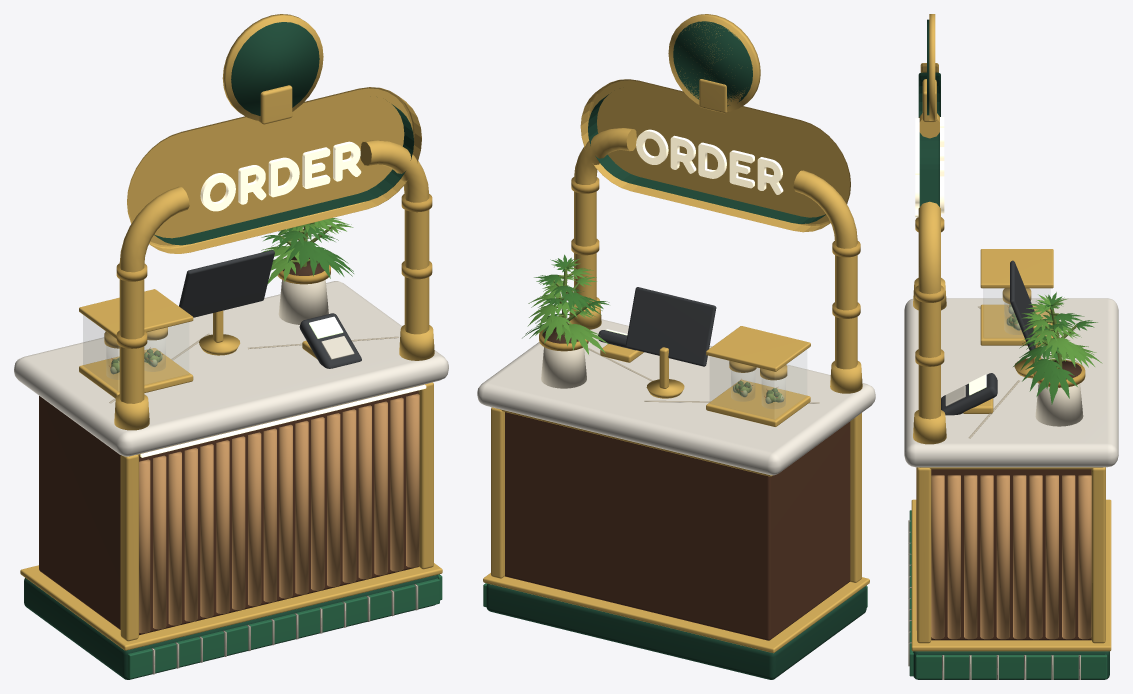
Rendered from order_desk_tier5.glb.
3 renders of one model, left to right at view 1: azimuth 30°, elevation 25°; view 2: azimuth 150°, elevation 25°; view 3: azimuth 270°, elevation 25°, orthographic. The views are drawn at different scales.
Visible parts, largest first — view 1: Top, Body, SignBorder, PlinthTile, PlinthBrass, Roundel, ArchPost-1, ArchPost1, Plinth, SignText0, Tablet, DisplayGlass (+31 smaller); view 2: Body, Top, SignBorder, Plinth, Tablet, PlinthBrass, Roundel, DisplayGlass, ArchPost-1, ArchPost1, SignText1, DisplayCap (+11 smaller); view 3: Top, Body, ArchPost1, PlinthTileSide, PlinthBrass, DisplayCap, Corner1, Corner+XB, FluteEnd3, FluteEnd6, FluteEnd0, FluteEnd9 (+24 smaller).
Boxes of the visible parts, bbox=[...] form: Top: bbox=[14, 281, 448, 456]; Body: bbox=[39, 390, 418, 635]; SignBorder: bbox=[127, 87, 421, 253]; PlinthTile: bbox=[127, 578, 439, 678]; PlinthBrass: bbox=[20, 563, 442, 650]; Roundel: bbox=[231, 22, 319, 115]; ArchPost-1: bbox=[119, 186, 189, 403]; ArchPost1: bbox=[360, 140, 429, 334]; Plinth: bbox=[24, 575, 438, 679]; SignText0: bbox=[200, 141, 361, 211]; Tablet: bbox=[179, 250, 274, 317]; DisplayGlass: bbox=[83, 315, 188, 390]; Body: bbox=[505, 412, 850, 640]; Top: bbox=[477, 319, 875, 475]; SignBorder: bbox=[580, 79, 850, 232]; Plinth: bbox=[486, 583, 866, 679]; Tablet: bbox=[625, 287, 716, 366]; PlinthBrass: bbox=[483, 573, 869, 653]; Roundel: bbox=[673, 21, 752, 106]; DisplayGlass: bbox=[710, 350, 806, 418]; ArchPost-1: bbox=[793, 170, 857, 369]; ArchPost1: bbox=[574, 128, 636, 303]; SignText1: bbox=[636, 129, 783, 194]; DisplayCap: bbox=[706, 326, 810, 371]; Top: bbox=[904, 298, 1118, 467]; Body: bbox=[931, 469, 1091, 640]; ArchPost1: bbox=[918, 201, 940, 419]; PlinthTileSide: bbox=[915, 654, 1107, 678]; PlinthBrass: bbox=[911, 499, 1111, 651]; DisplayCap: bbox=[980, 249, 1053, 288]; Corner1: bbox=[917, 467, 931, 643]; Corner+XB: bbox=[1091, 467, 1105, 643]; FluteEnd3: bbox=[980, 475, 993, 639]; FluteEnd6: bbox=[1029, 475, 1042, 639]; FluteEnd0: bbox=[931, 475, 944, 639]; FluteEnd9: bbox=[1078, 475, 1091, 639].
Size of the model in its own units: 1.29 by 2.31 by 0.76.
